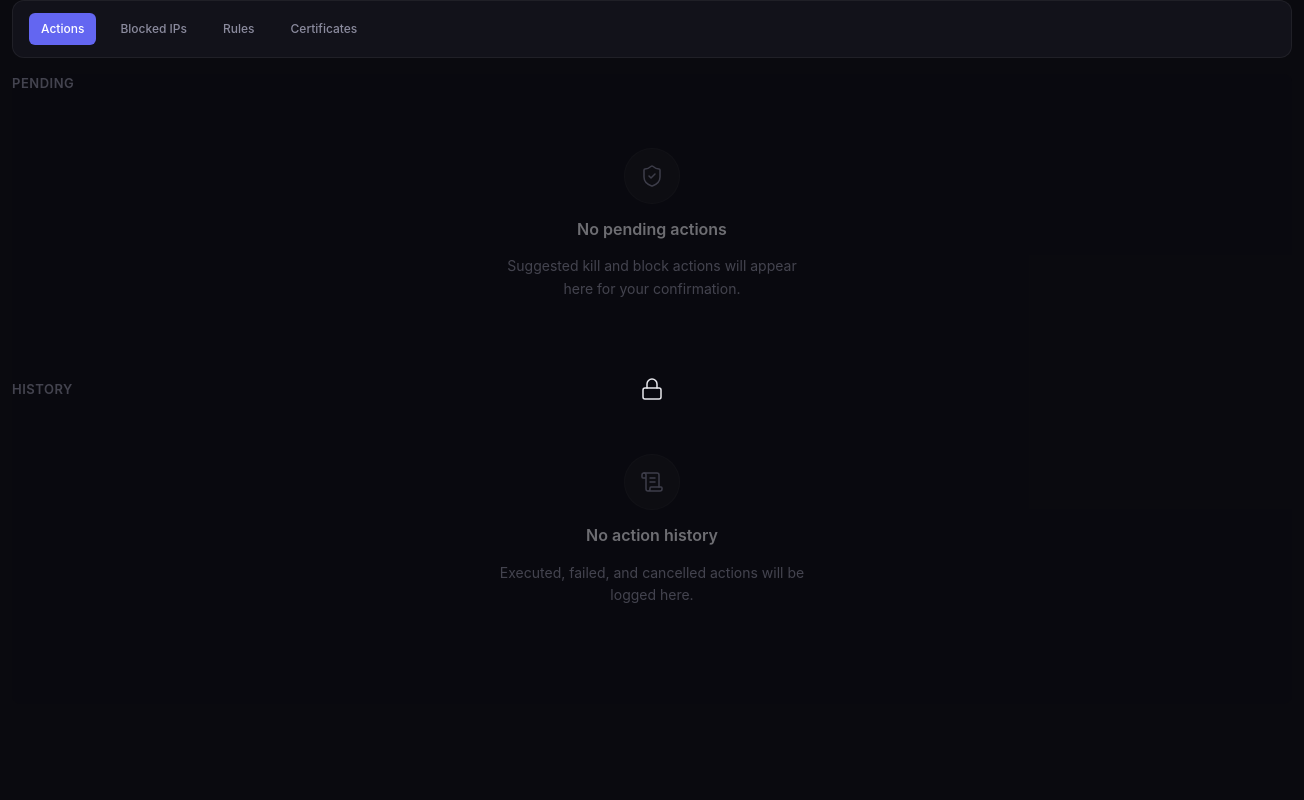
DefenseView › renders the rule name on the Rules tab
Click the tab "Rules": (239, 29) [211, 13, 266, 45]
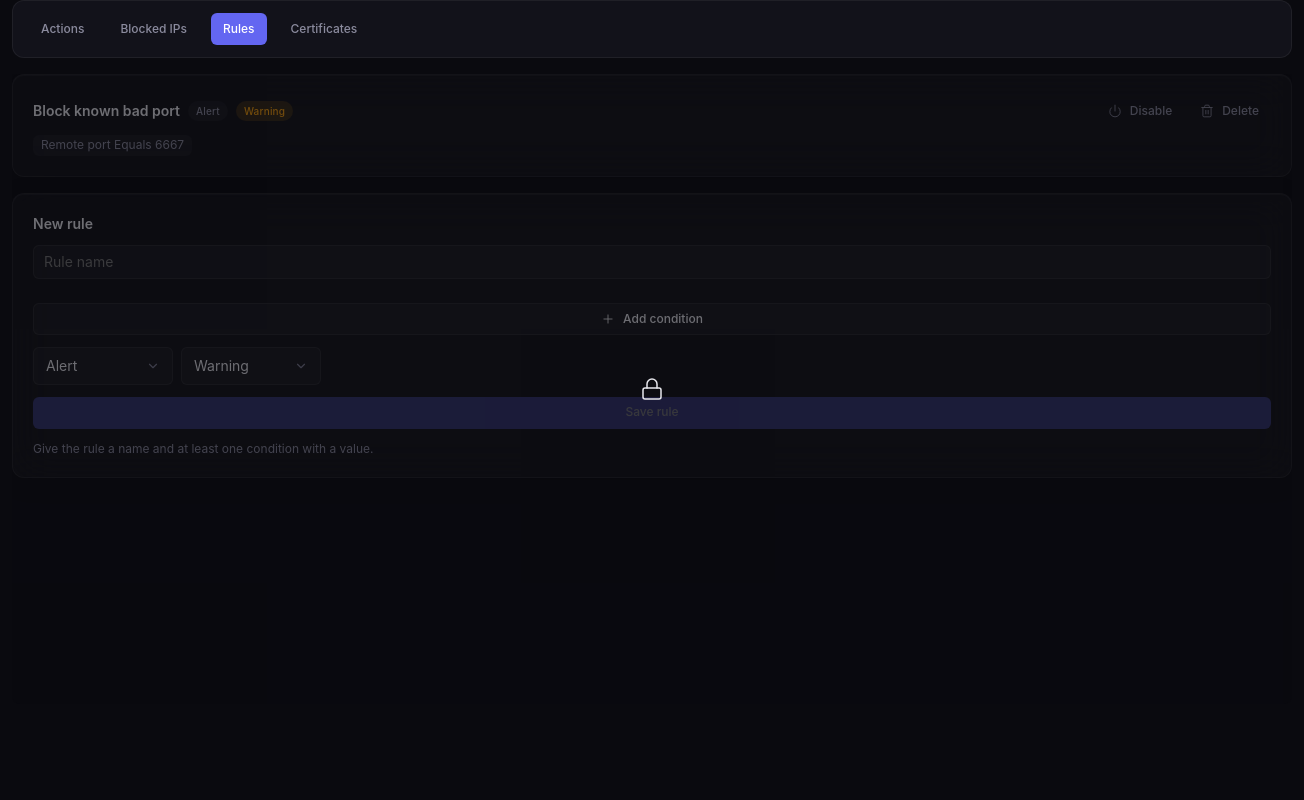
Expected: the text "Block known bad port" is shown, [33, 101, 180, 121]
